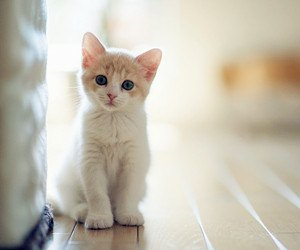cat: (59, 20, 172, 236)
